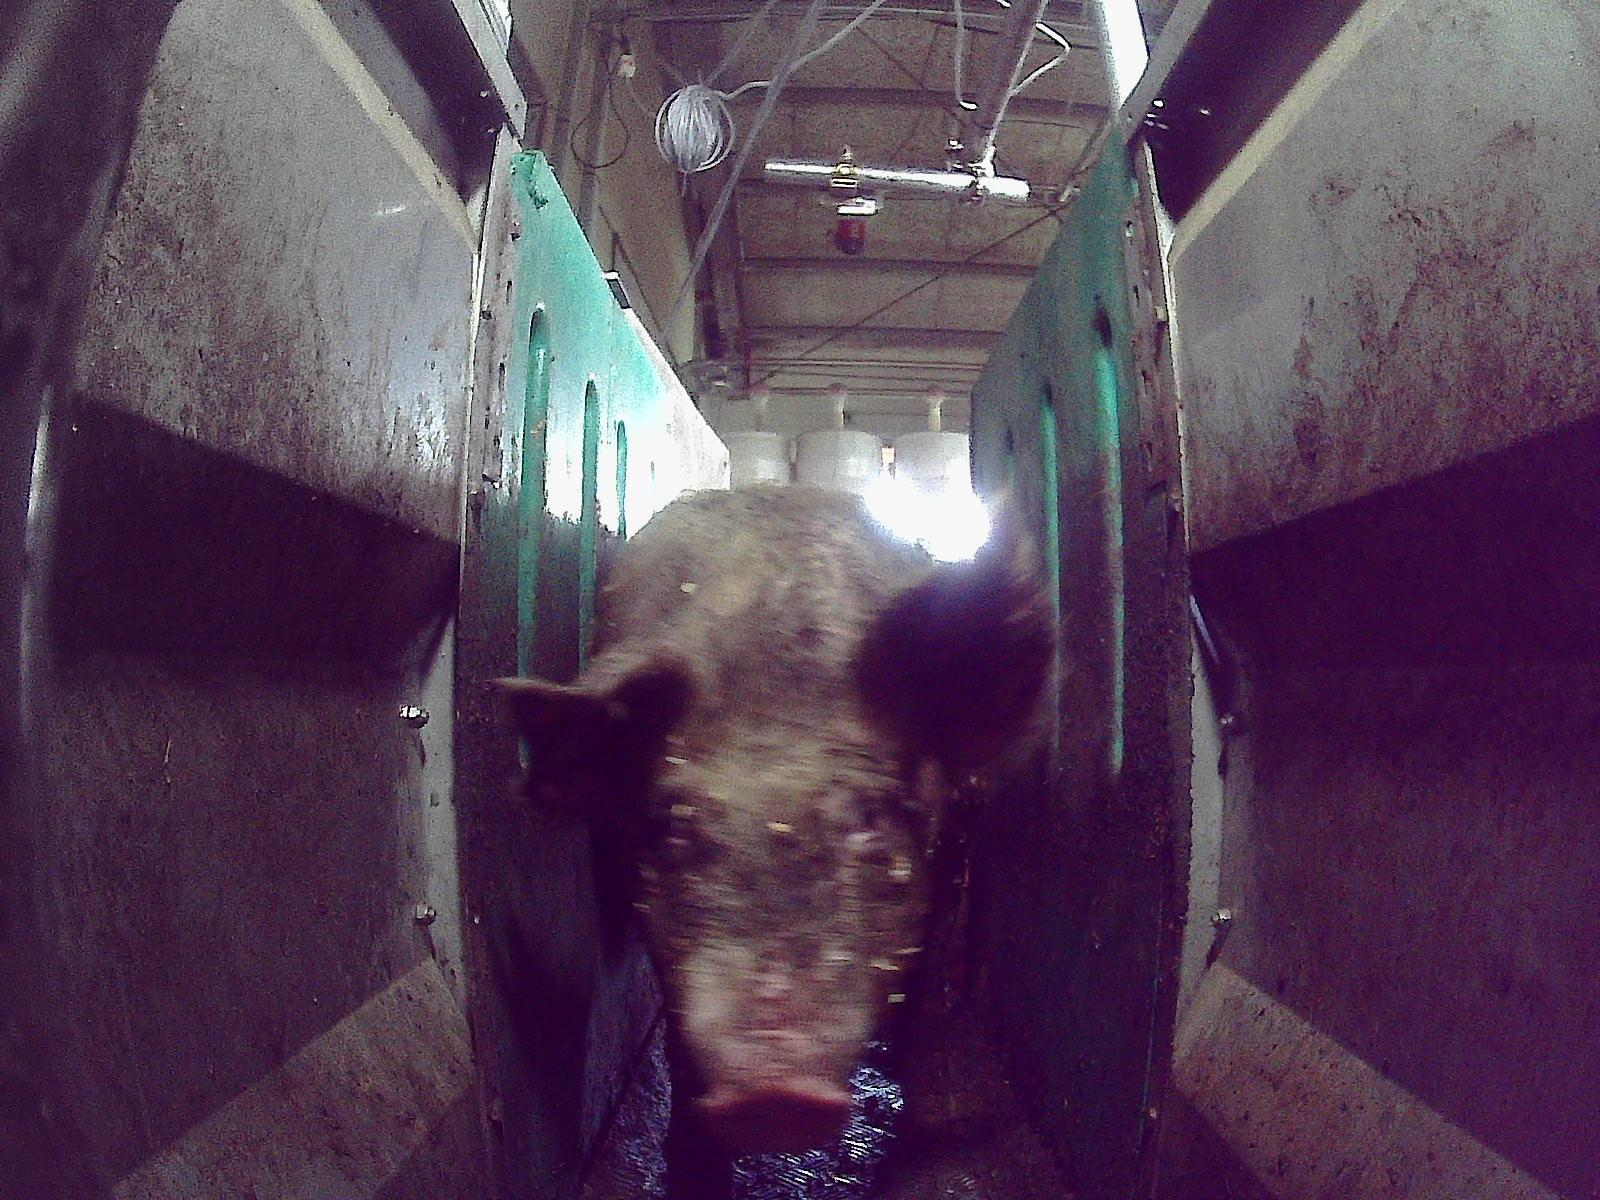Face: (616, 628, 946, 1151)
